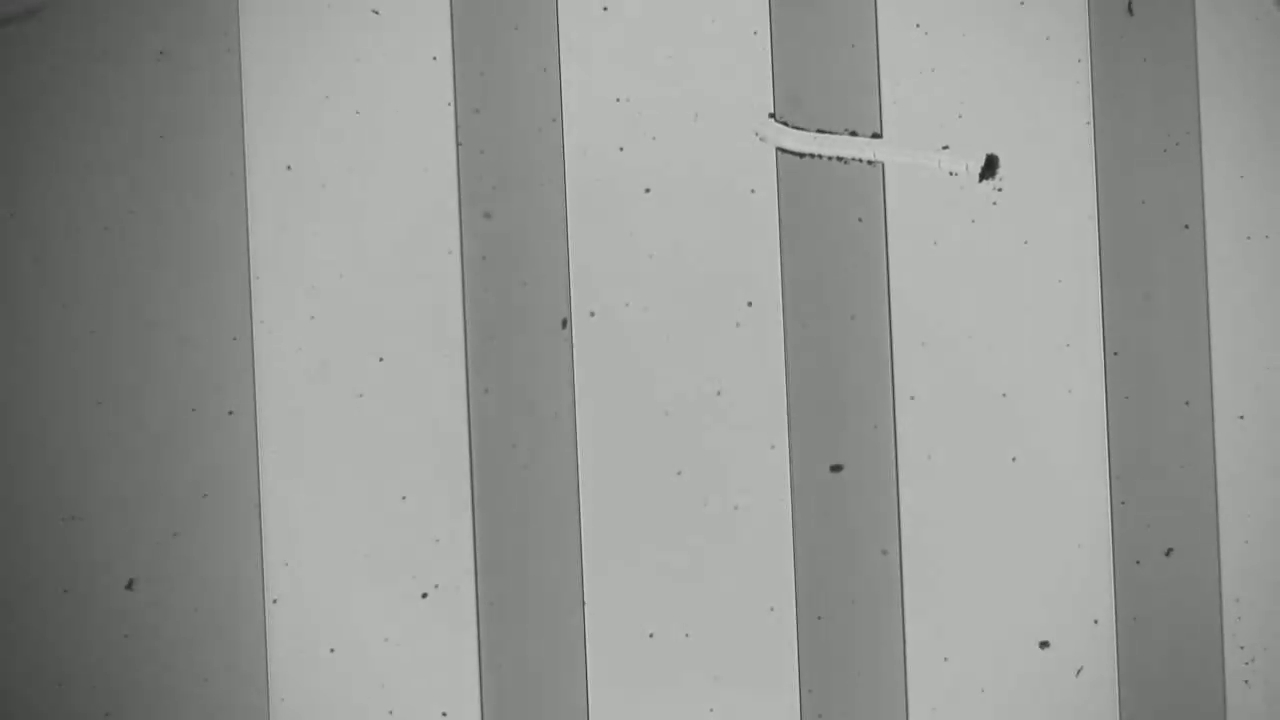Short_circuit: (735, 83, 928, 203)
